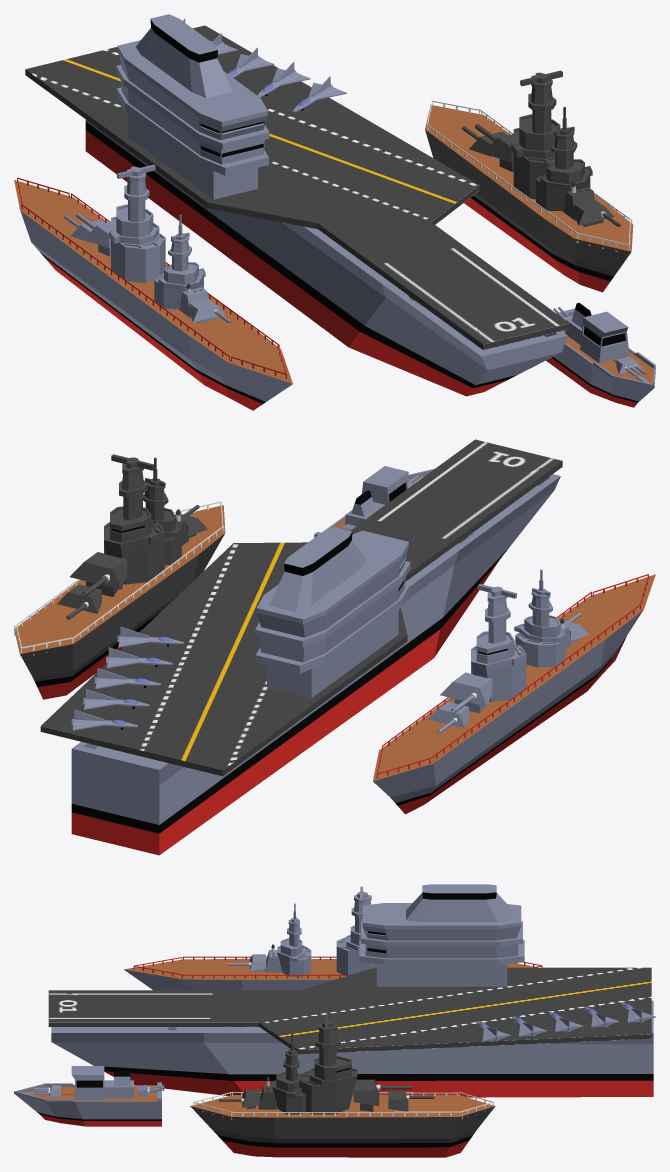
File: Battleship.glb
The picture shows the model from 3 angles, top to bottom: view 1: azimuth 30°, elevation 25°; view 2: azimuth 150°, elevation 25°; view 3: azimuth 270°, elevation 25°; orthographic projection. The views are drawn at different scales.
Visible parts, largest first — view 1: Ship2; view 2: Ship2; view 3: Ship2.
Boxes of the visible parts, x1,y1,x2,y2 form: Ship2: [14, 14, 655, 410]; Ship2: [14, 439, 655, 855]; Ship2: [14, 884, 655, 1157].
Bounding box in the file's own units: 14.96 × 7.02 × 24.72.
11 materials, 1 textured.
